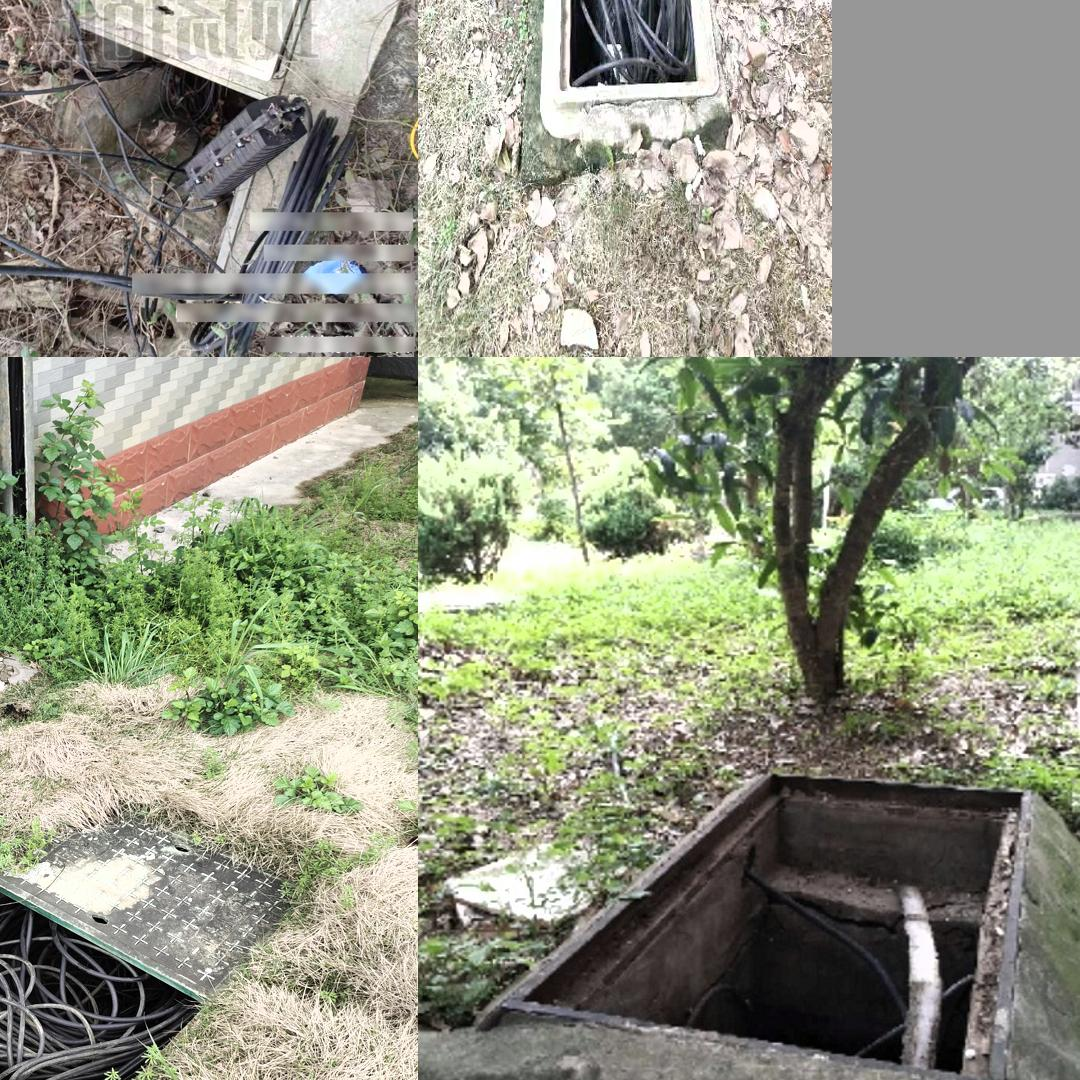lose: (476, 769, 1035, 1080), (39, 0, 360, 290), (0, 875, 208, 1080), (529, 0, 729, 153)
